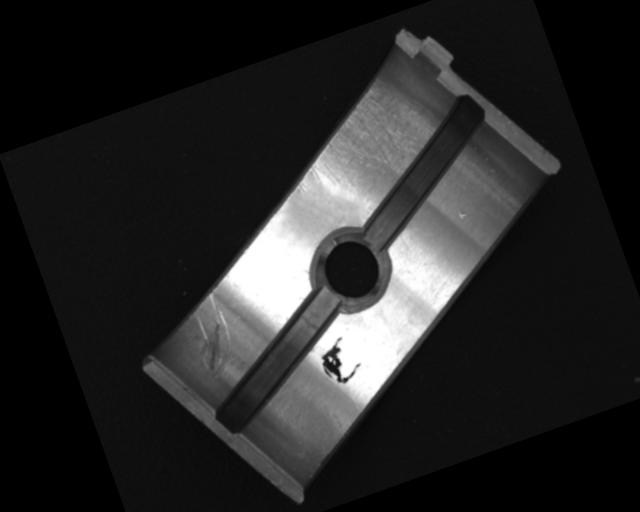blot: (314, 331, 366, 389)
bruise: (456, 207, 469, 220)
gap: (329, 90, 516, 252), (186, 285, 364, 437)
hole: (303, 221, 403, 320)
nick: (179, 289, 243, 382)
scratch: (270, 63, 446, 208)
